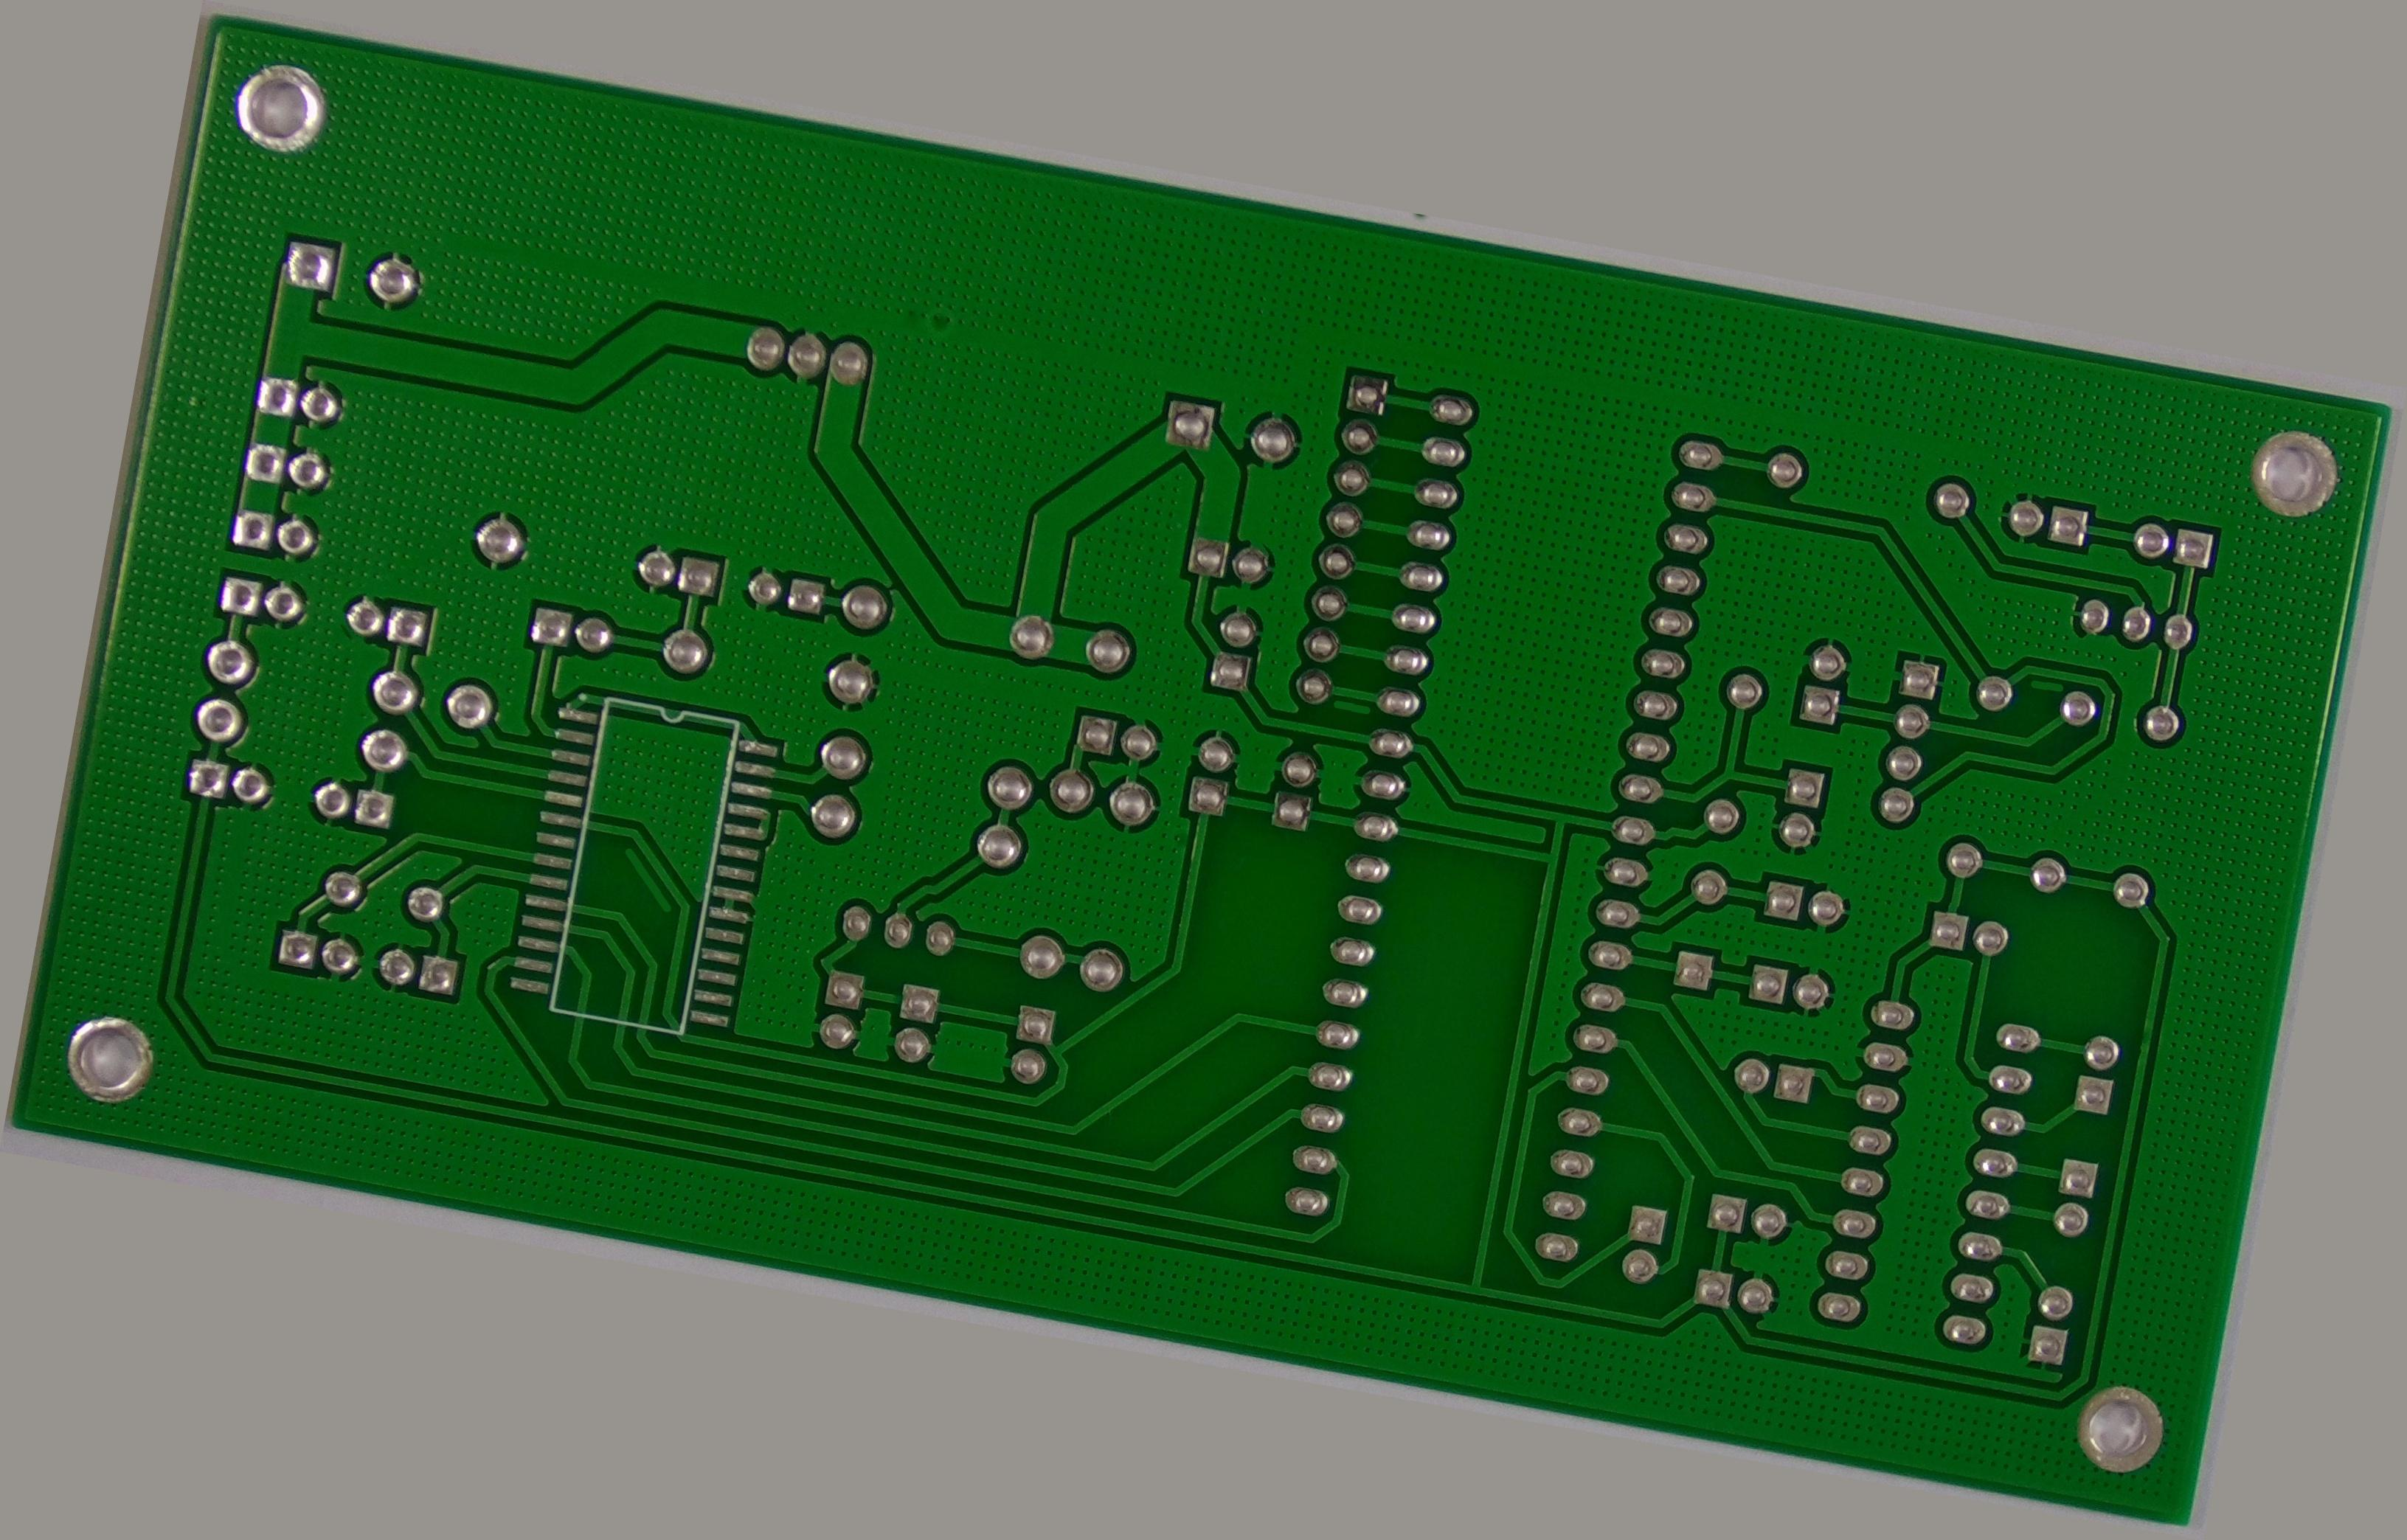spurious_copper: (595, 993, 674, 1091), (1323, 642, 1374, 674), (2060, 453, 2103, 488)
